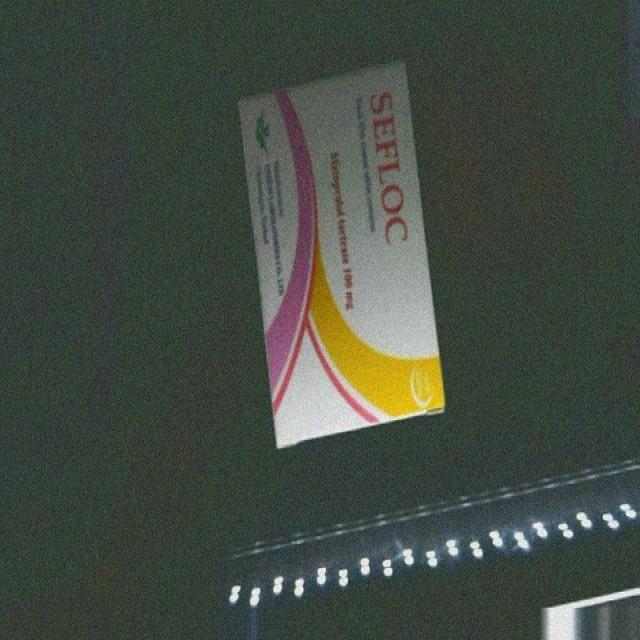medicine_name_detection: (238, 66, 441, 446)
